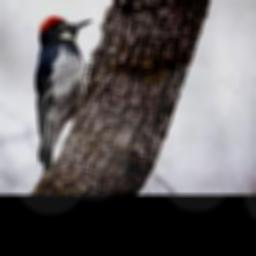Woodpecker: (36, 16, 93, 174)
